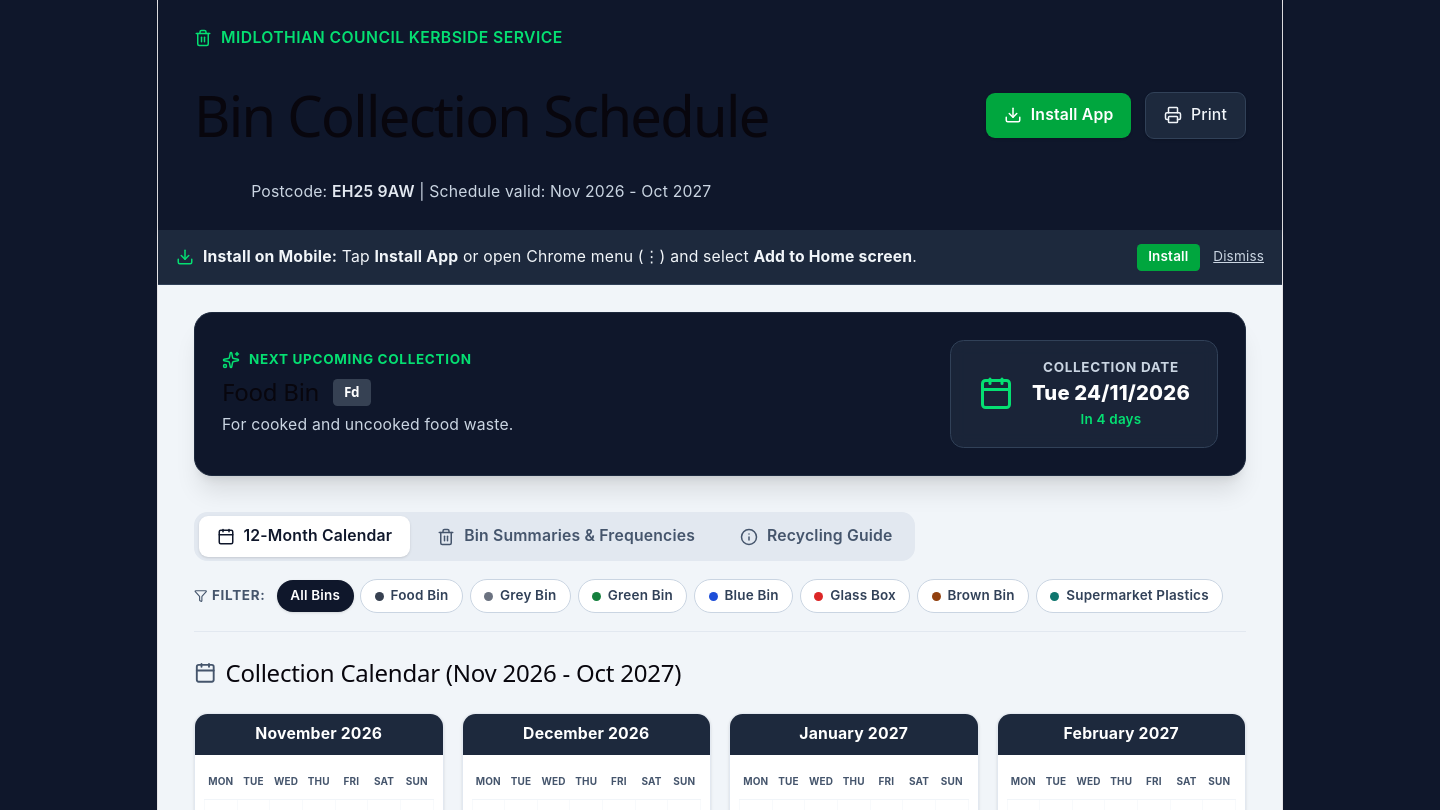
Test: App interactions › switches to the bin summaries tab
What coordinates should you click on to do the following:
click the tab "Bin Summaries & Frequencies"
I would click on:
 (566, 537)
Its box is x1=419 y1=516 x2=713 y2=557.
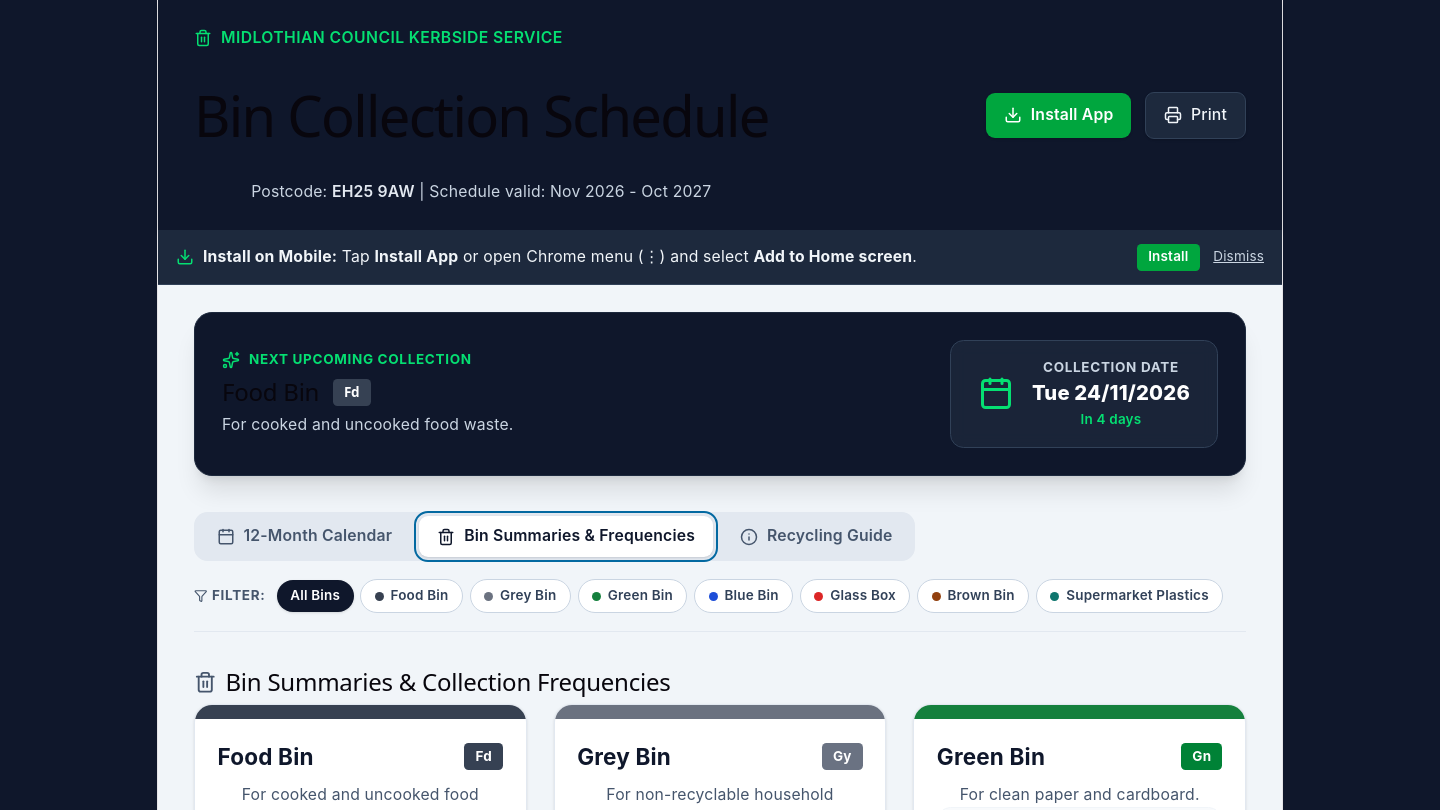
expect the heading "Bin Summaries & Collection Frequencies" is shown: met, box x1=194 y1=665 x2=670 y2=698
